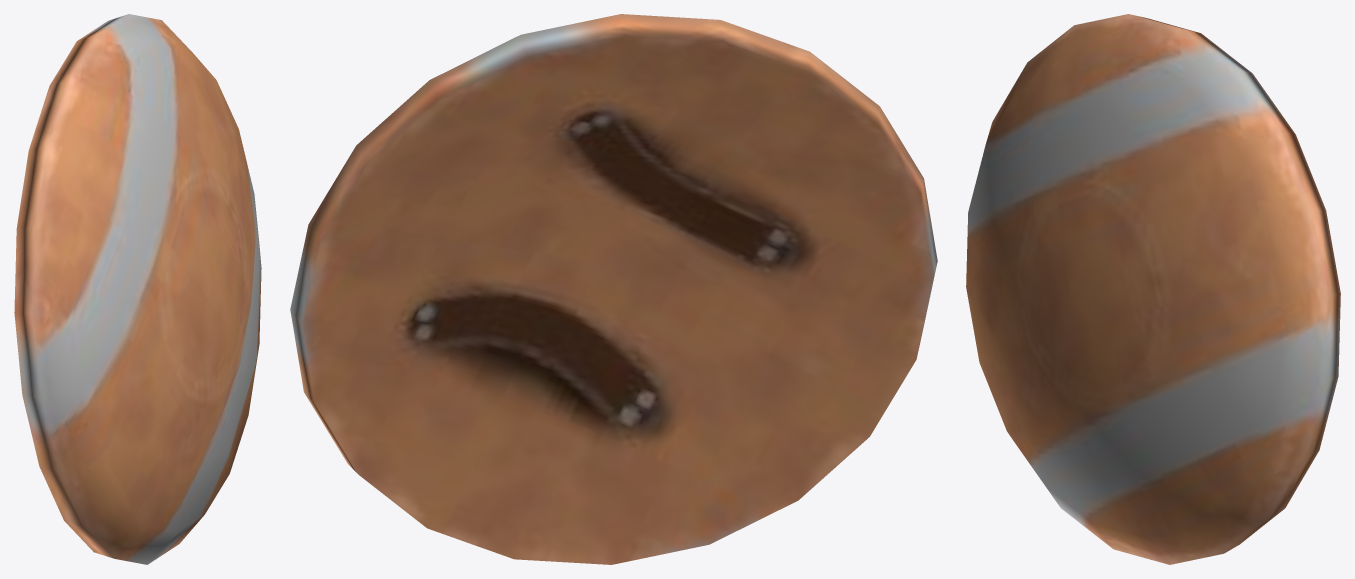
File: shield-coppershields.glb
3 renders of one model, left to right at view 1: azimuth 30°, elevation 25°; view 2: azimuth 150°, elevation 25°; view 3: azimuth 270°, elevation 25°, orthographic. The views are drawn at different scales.
Bounding box in the file's own units: 0.3332 × 0.4169 × 0.2851.
1 material, 1 textured.
